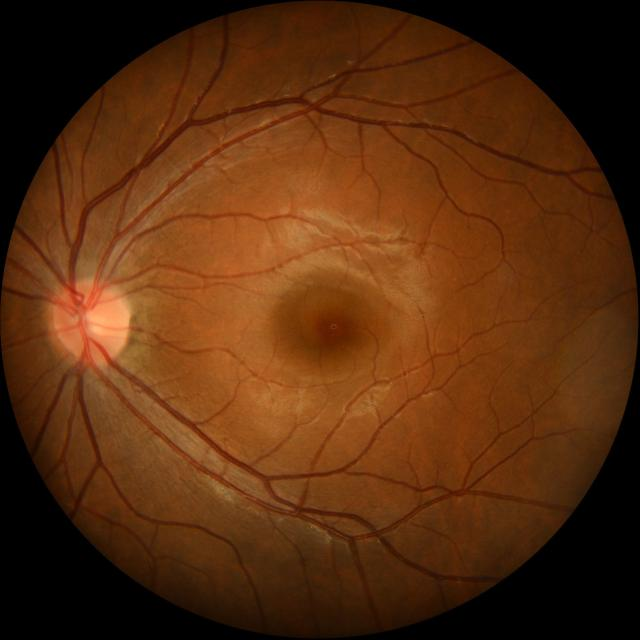OC: (79, 306, 110, 337)
OD: (53, 279, 129, 362)
